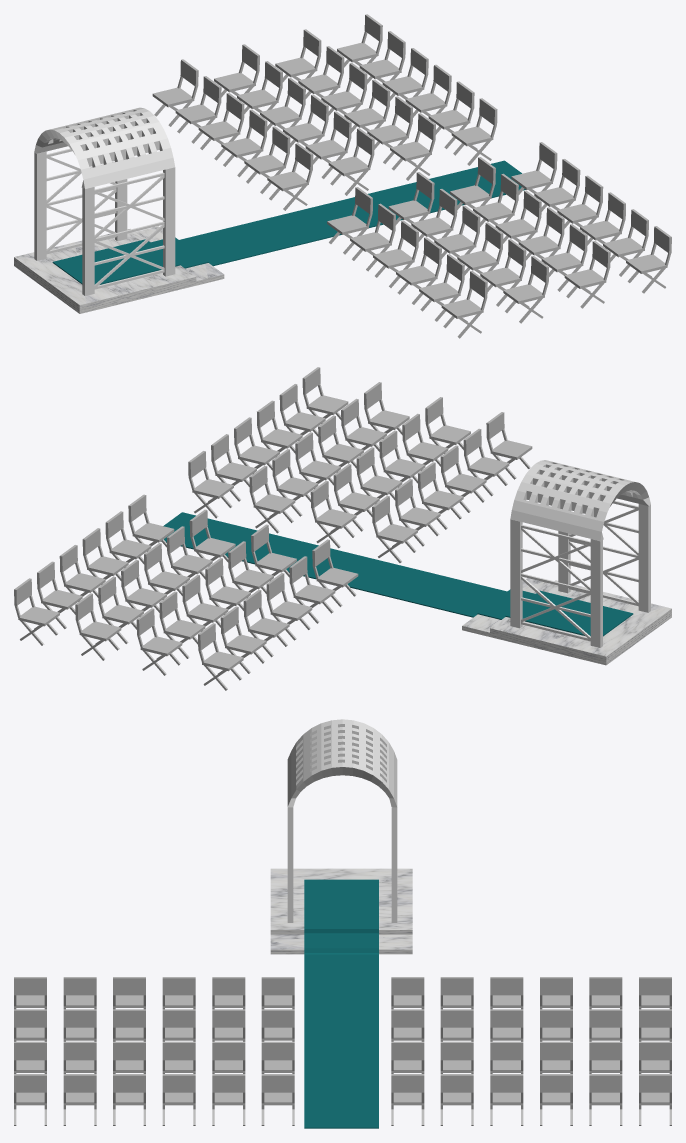
Rendered from Outdoor Wedding Scene.glb.
3 renders of one model, top to bottom at view 1: azimuth 30°, elevation 25°; view 2: azimuth 150°, elevation 25°; view 3: azimuth 270°, elevation 25°, orthographic. The views are drawn at different scales.
Visible parts, largest first — view 1: Chair, Chair.001, Arch, Cube.002, Cube.001; view 2: Chair, Chair.001, Arch, Cube.002, Cube.001; view 3: Chair, Chair.001, Cube.002, Arch, Cube.001.
Boxes of the visible parts, x1,y1,x2,y2 form: Chair: (152,14,497,210); Chair.001: (327,142,671,338); Arch: (34,107,175,295); Cube.002: (52,160,525,284); Cube.001: (14,226,224,313); Chair: (14,494,358,690); Chair.001: (188,367,532,562); Arch: (510,460,650,647); Cube.002: (163,512,633,636); Cube.001: (462,578,671,665); Chair: (391,977,671,1125); Chair.001: (14,977,294,1125); Cube.002: (304,879,378,1128); Arch: (287,719,397,922); Cube.001: (270,868,412,954).
Size of the model in its own units: 11.62 by 3.62 by 12.89.
Materials: 4 (1 with a texture image).
